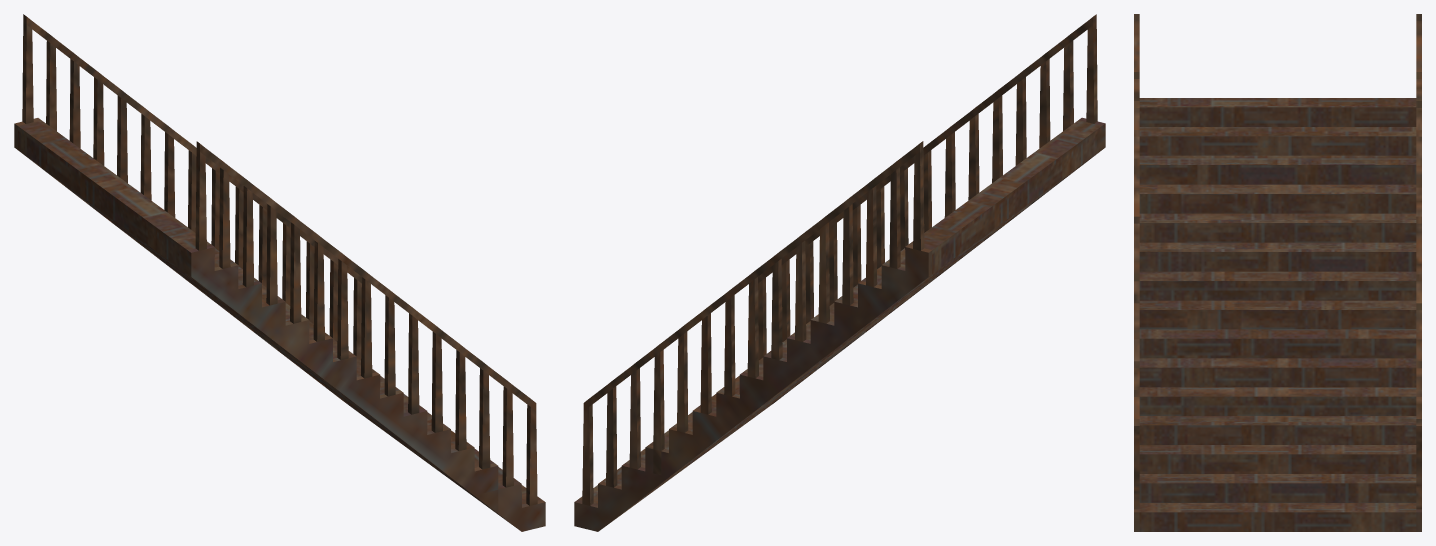
The model's file is escada principal.fbx.
3 renders of one model, left to right at view 1: azimuth 30°, elevation 25°; view 2: azimuth 150°, elevation 25°; view 3: azimuth 270°, elevation 25°, orthographic. The views are drawn at different scales.
Visible parts, largest first — view 1: Cube.010; view 2: Cube.010; view 3: Cube.010.
Part boxes in pixels (left/top/right/bottom): Cube.010: left=14, top=14, right=545, bottom=531; Cube.010: left=574, top=14, right=1105, bottom=531; Cube.010: left=1134, top=14, right=1421, bottom=531.
Size of the model in its own units: 308 by 389 by 266.
